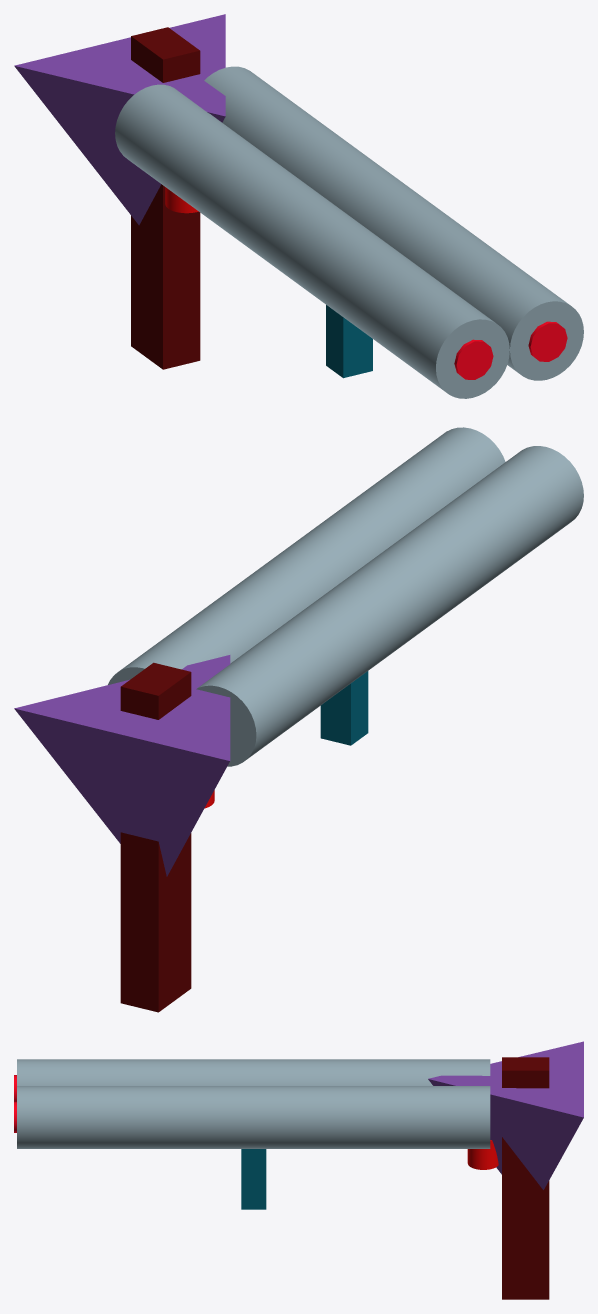
File: gun-1.glb
3 renders of one model, top to bottom at view 1: azimuth 30°, elevation 25°; view 2: azimuth 150°, elevation 25°; view 3: azimuth 270°, elevation 25°, orthographic. The views are drawn at different scales.
Bounding box in the file's own units: 0.5715 × 0.8 × 1.81.
